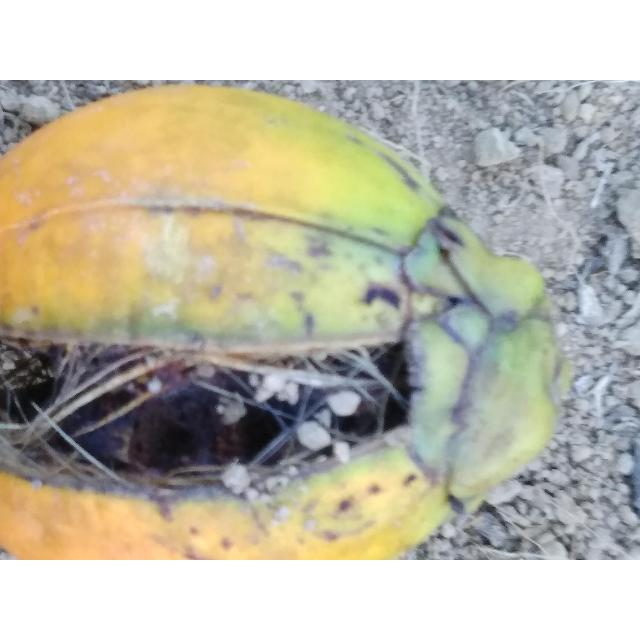damaged: (0, 85, 574, 560)
